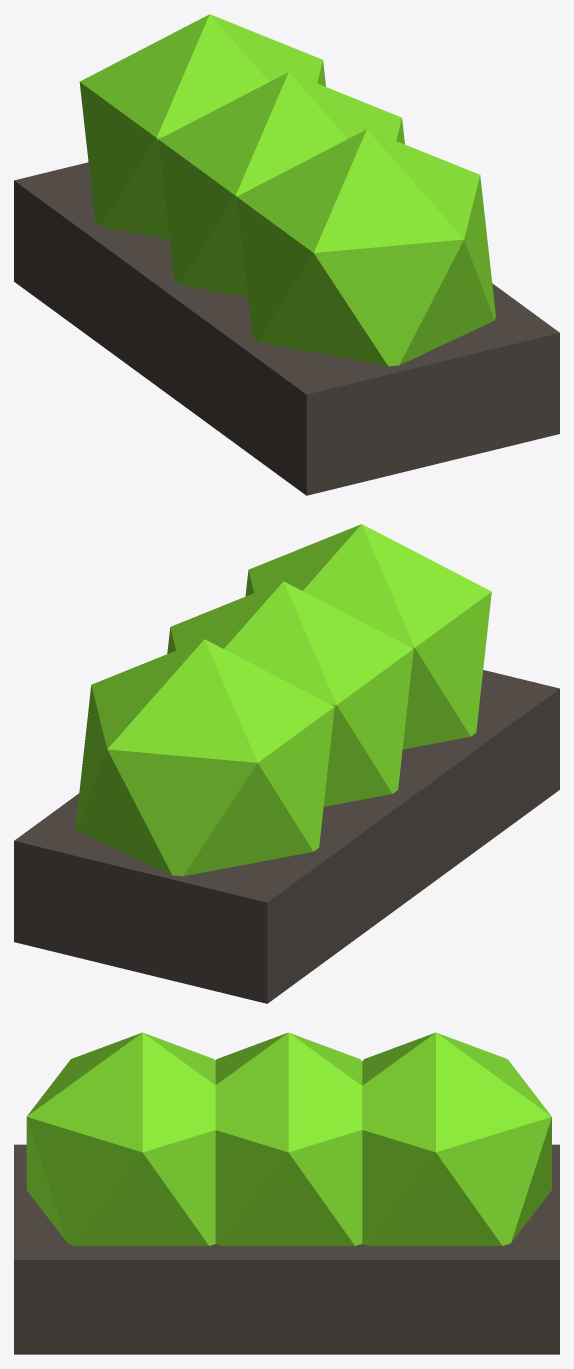
Rendered from low_poly_bush.glb.
3 renders of one model, top to bottom at view 1: azimuth 30°, elevation 25°; view 2: azimuth 150°, elevation 25°; view 3: azimuth 270°, elevation 25°, orthographic. The views are drawn at different scales.
Parts seen in each view (by area): view 1: Cube_0, Icokugel.002_3, Icokugel_1, Icokugel.001_2; view 2: Cube_0, Icokugel_1, Icokugel.001_2, Icokugel.002_3; view 3: Cube_0, Icokugel_1, Icokugel.002_3, Icokugel.001_2.
Boxes of the visible parts, x1,y1,x2,y2 form: Cube_0: (14, 162, 559, 495); Icokugel.002_3: (237, 129, 495, 366); Icokugel_1: (79, 14, 325, 239); Icokugel.001_2: (158, 72, 404, 297); Cube_0: (14, 670, 559, 1003); Icokugel_1: (75, 639, 334, 876); Icokugel.001_2: (167, 581, 413, 806); Icokugel.002_3: (245, 524, 491, 749); Cube_0: (14, 1144, 559, 1354); Icokugel_1: (362, 1032, 551, 1245); Icokugel.002_3: (26, 1032, 215, 1245); Icokugel.001_2: (215, 1032, 362, 1245).
Size of the model in its own units: 2 by 2.15 by 4.
